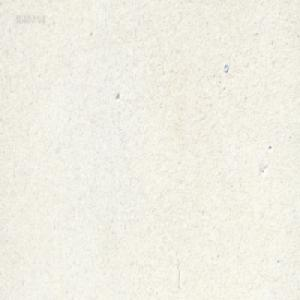Washer: (223, 63, 229, 74)
